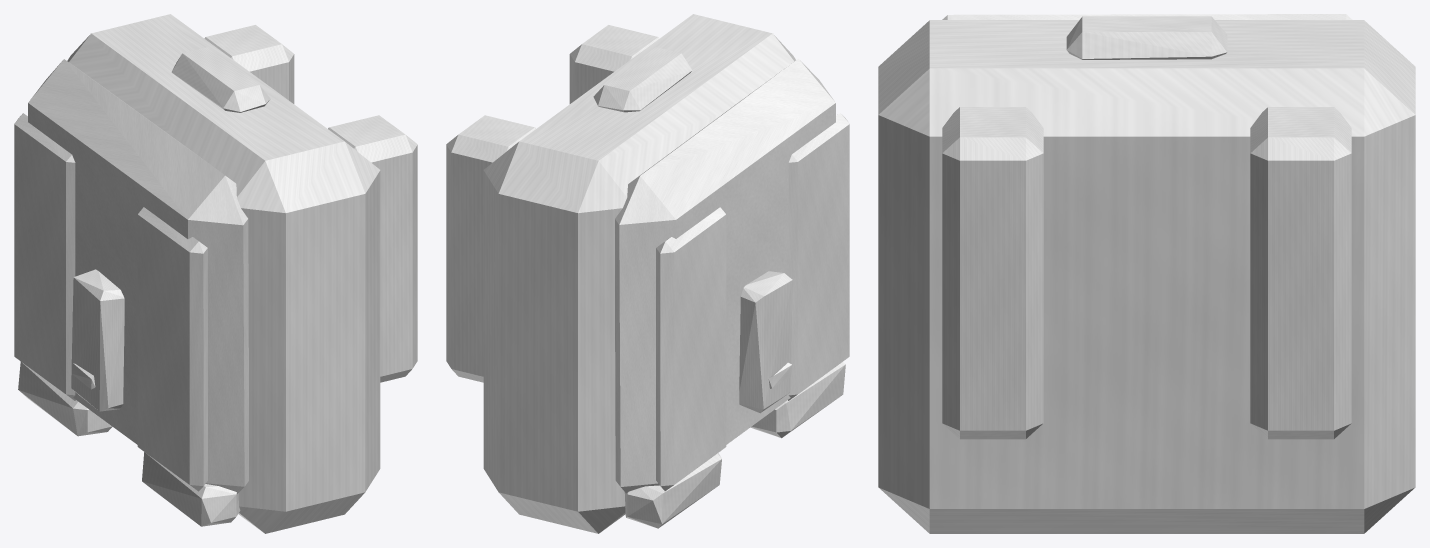
The model's file is Field_Medic_Rescue_Pack_LOD1.glb.
3 renders of one model, left to right at view 1: azimuth 30°, elevation 25°; view 2: azimuth 150°, elevation 25°; view 3: azimuth 270°, elevation 25°, orthographic. The views are drawn at different scales.
Visible parts, largest first — view 1: Field_Medic_Rescue_Pack_LOD1; view 2: Field_Medic_Rescue_Pack_LOD1; view 3: Field_Medic_Rescue_Pack_LOD1.
Boxes of the visible parts, box(x1,y1,x2,y2) form: Field_Medic_Rescue_Pack_LOD1: box(14, 14, 417, 533); Field_Medic_Rescue_Pack_LOD1: box(446, 14, 849, 533); Field_Medic_Rescue_Pack_LOD1: box(878, 14, 1415, 533).
Size of the model in its own units: 0.2563 by 0.3665 by 0.366.
3 materials, 3 textured.
